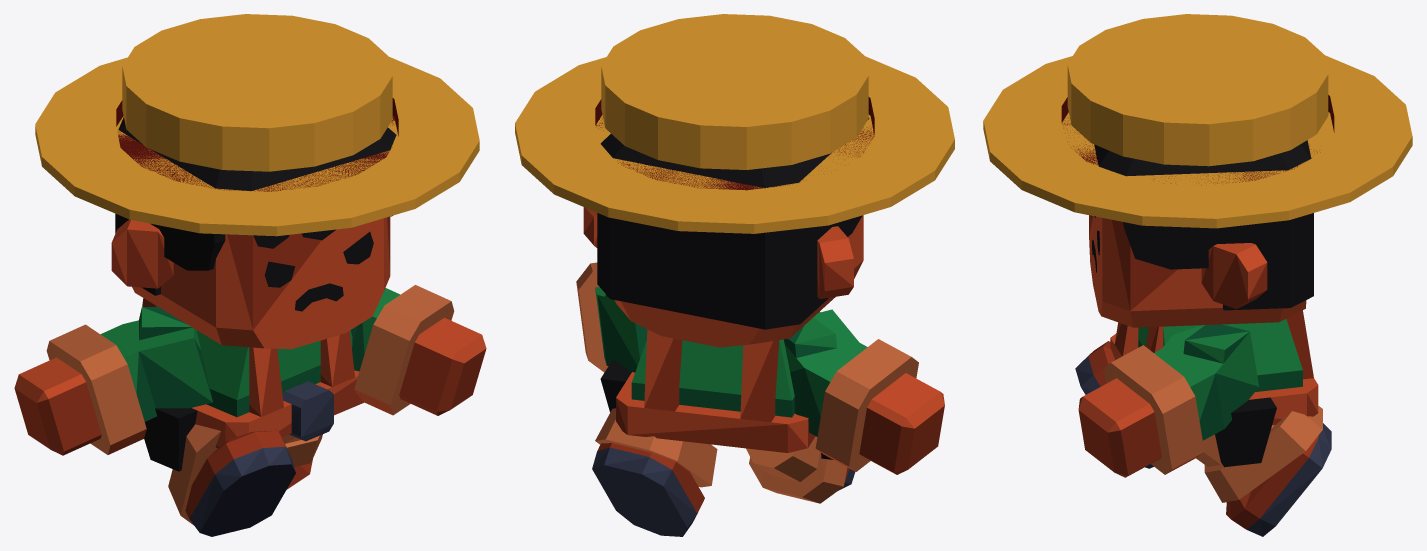
File: Boy_walk_6.obj
3 views of the same model, side by side, from view 1: azimuth 30°, elevation 25°; view 2: azimuth 150°, elevation 25°; view 3: azimuth 270°, elevation 25° (orthographic). The views are drawn at different scales.
Parts seen in each view (by area): view 1: Boy; view 2: Boy; view 3: Boy.
Boxes of the visible parts, x1,y1,x2,y2 form: Boy: [14, 14, 486, 536]; Boy: [515, 14, 954, 536]; Boy: [983, 14, 1412, 536].
Size of the model in its own units: 0.7103 by 0.7601 by 0.6687.
